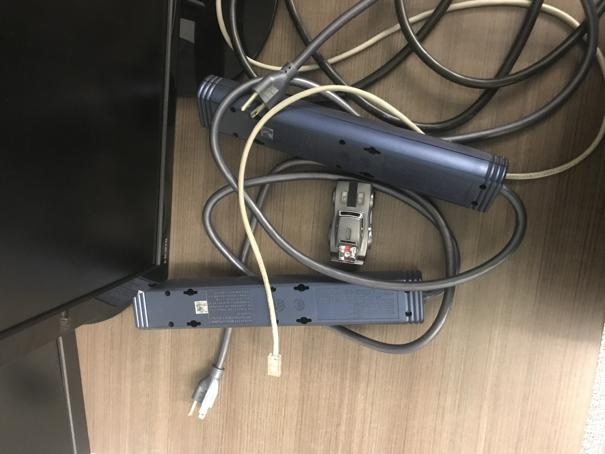Charger: (326, 178, 378, 268)
